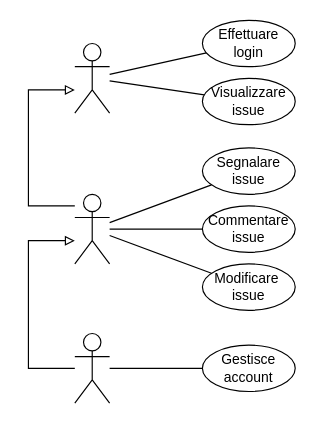
Some shapes in this 316 by 448 pixel diagram are drawn without their labels. Each missing label, with the centre of its shape:
admin: the point at 92,367
developer: the point at 92,228
viewer: the point at 92,77
